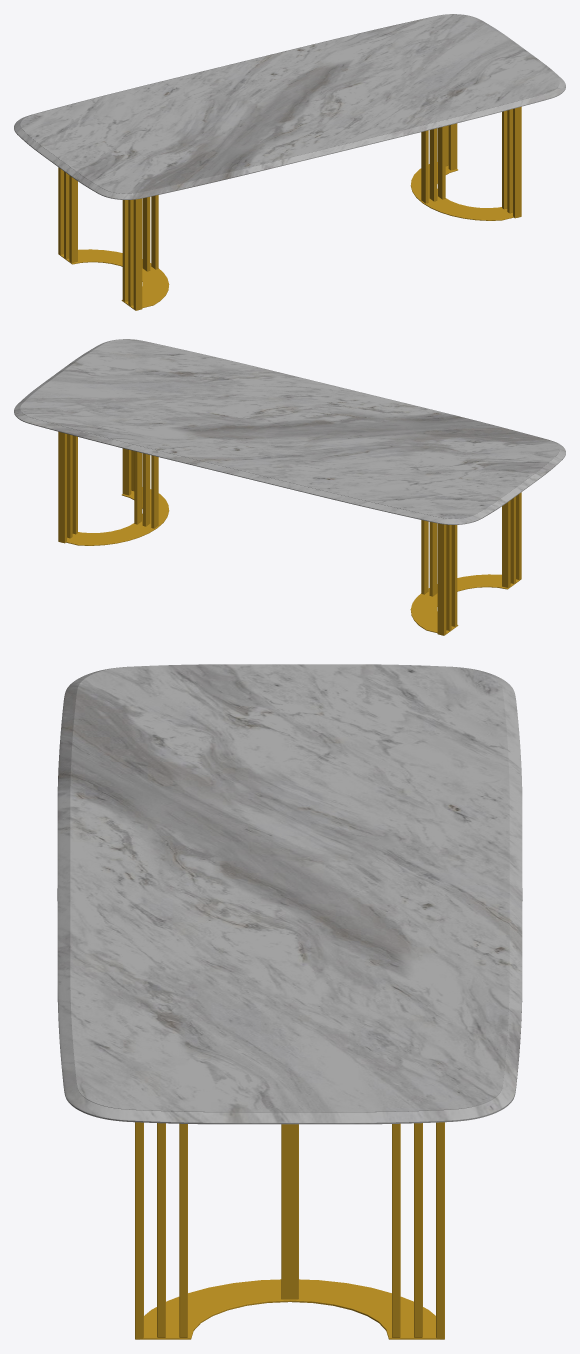
File: table-4.glb
The picture shows the model from 3 angles, top to bottom: view 1: azimuth 30°, elevation 25°; view 2: azimuth 150°, elevation 25°; view 3: azimuth 270°, elevation 25°; orthographic projection. The views are drawn at different scales.
Parts seen in each view (by area): view 1: 3DSMeshMatrix (×11); view 2: 3DSMeshMatrix (×11); view 3: 3DSMeshMatrix (×9).
Part boxes in pixels (bbox=[...]): 3DSMeshMatrix (×11): bbox=[14, 14, 565, 310]; 3DSMeshMatrix (×11): bbox=[14, 339, 565, 635]; 3DSMeshMatrix (×9): bbox=[57, 664, 522, 1339].
Bounding box in the file's own units: 2800 × 750 × 1200.
Materials: 2 (1 with a texture image).
